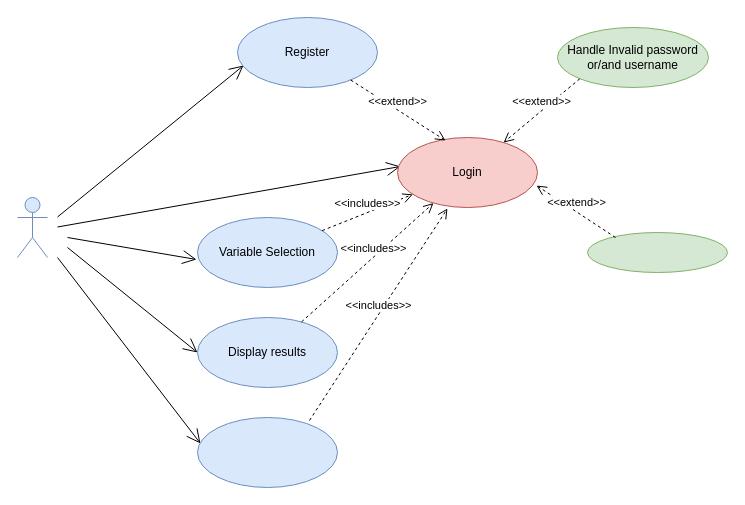
Some shapes in this 745 by 505 pixel diagram are drawn without their labels. The shapes that lost their labels are listed below. From the top down, each one's centre as x and y in pixels, then its label:
point 32,227: User
point 657,252: Recovery question
point 267,452: Logout
